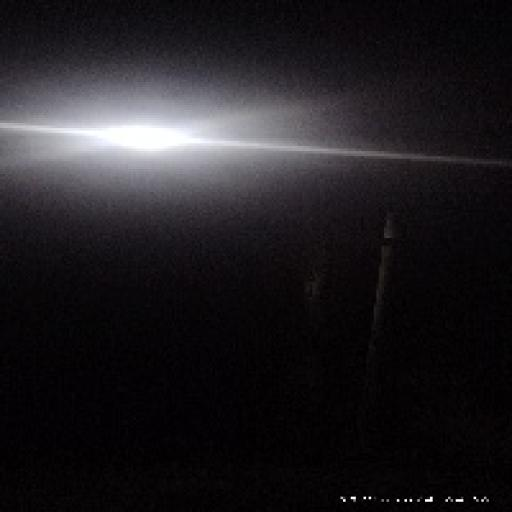Working: (78, 110, 206, 168)
